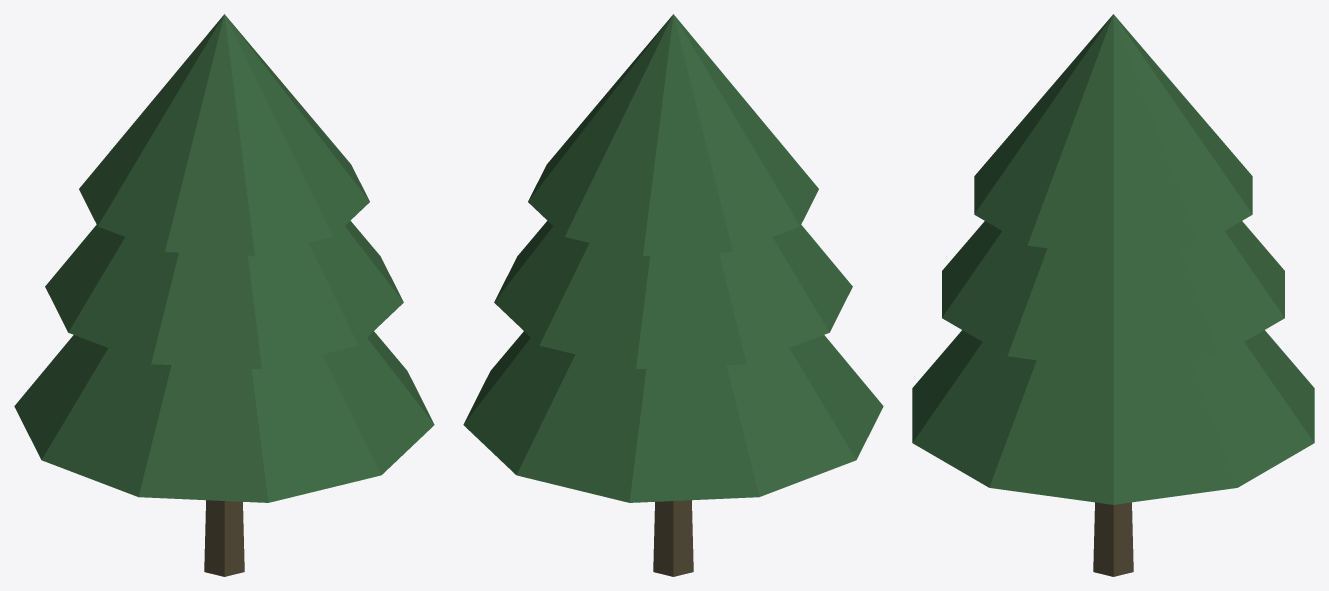
Rendered from Tree 2.fbx.
3 views of the same model, side by side, from view 1: azimuth 30°, elevation 25°; view 2: azimuth 150°, elevation 25°; view 3: azimuth 270°, elevation 25° (orthographic).
Parts seen in each view (by area): view 1: polySurface13; view 2: polySurface13; view 3: polySurface13.
Part boxes in pixels (x1,y1,x2,y2): polySurface13: (14,14,434,576); polySurface13: (463,14,883,576); polySurface13: (912,14,1314,576).
Size of the model in its own units: 43.04 by 62.15 by 40.93.
